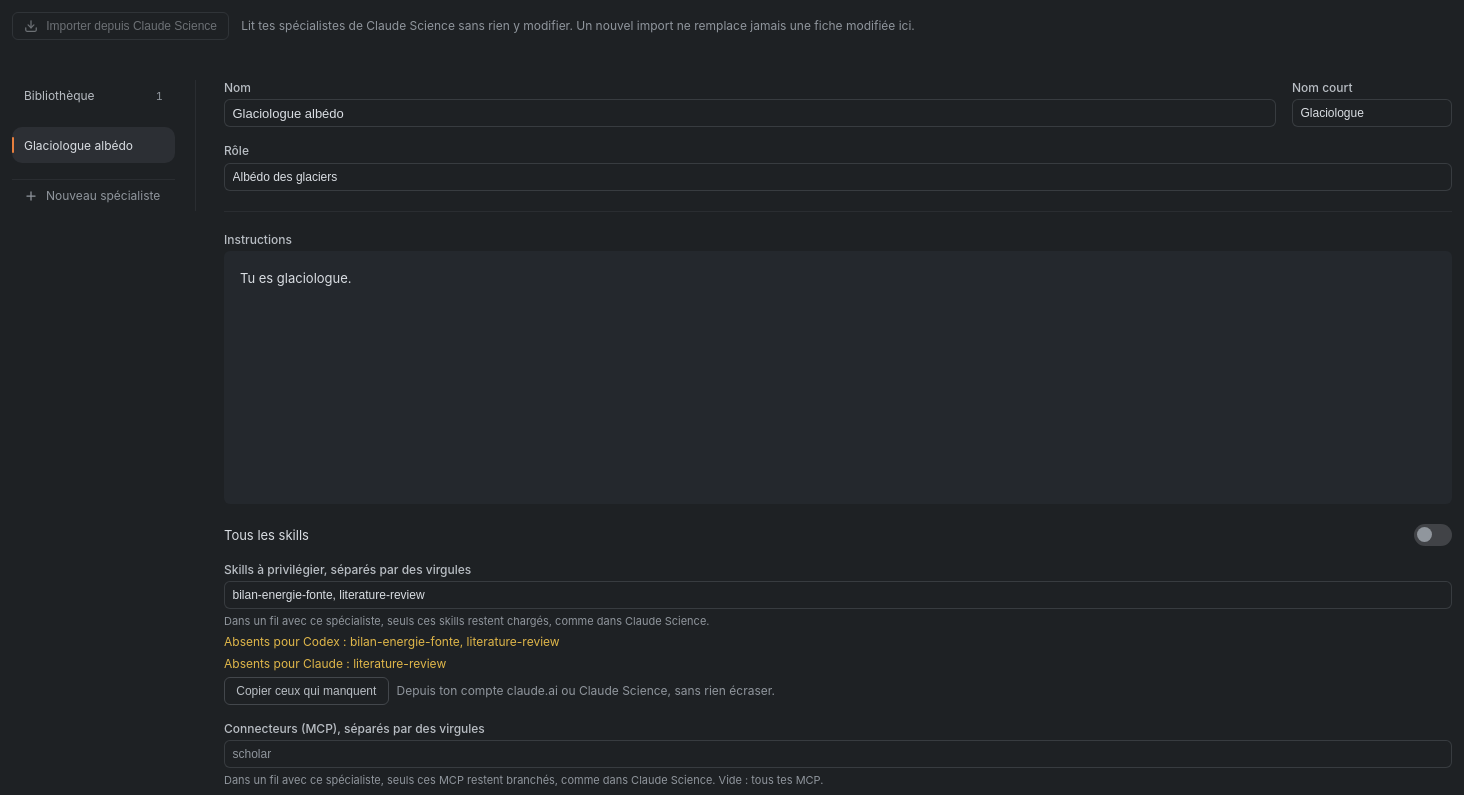
Test: Réglages › Spécialistes › signale les skills absents et les copie sur demande
Expected: the text "Absents pour Codex : bilan-energie-fonte, literature-review" is shown, [224,634,560,649]
Expected: the text "Absents pour Claude : literature-review" is shown, [224,656,446,671]
Click the button "Copier ceux qui manquent": coordinates (306, 691) [224,677,389,705]
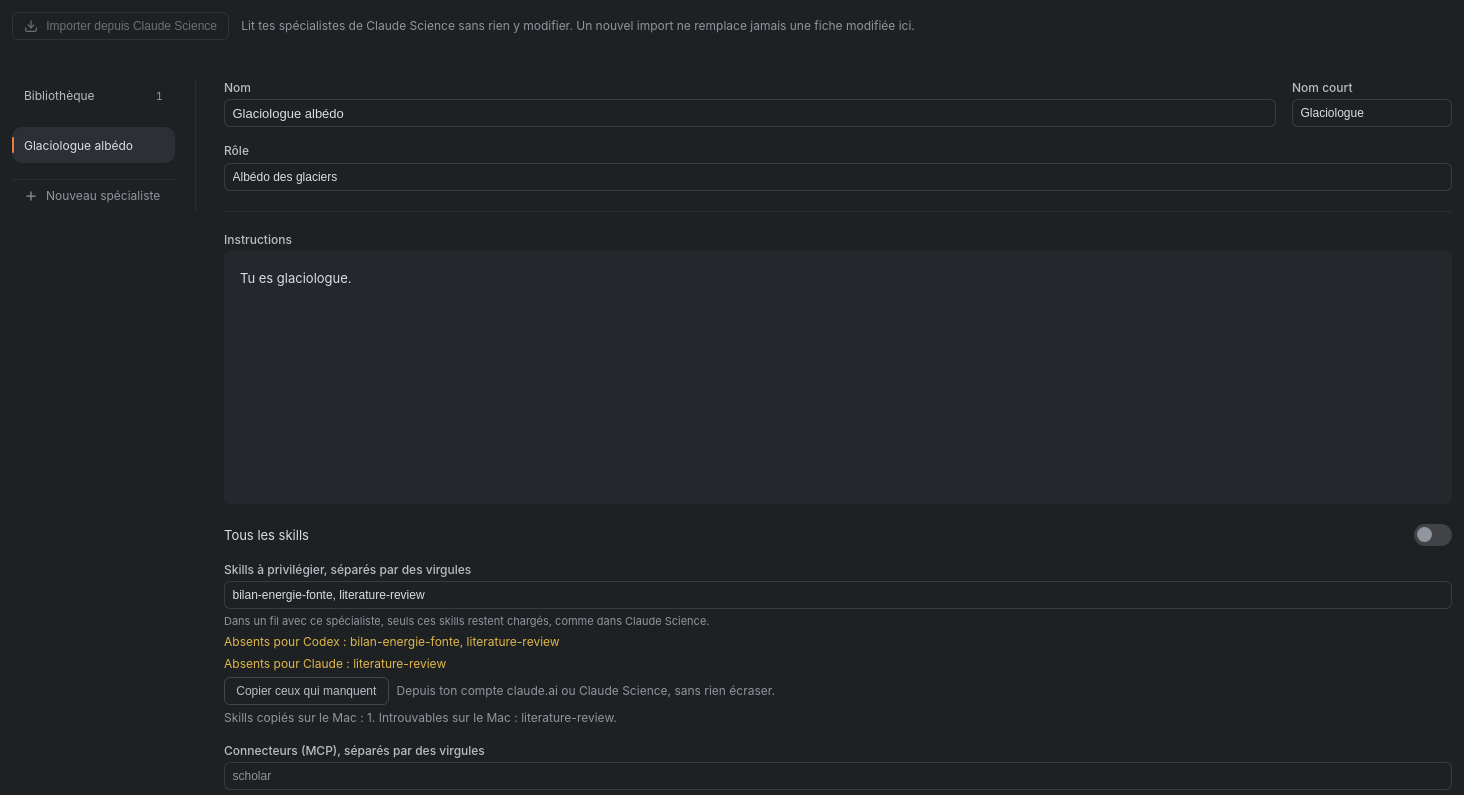
Now the text "Skills copiés sur le Mac : 1. Introuvables sur le Mac : literature-review." is shown, box [224,710,617,725]
